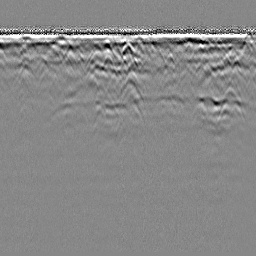cavity: (122, 40, 135, 55)
